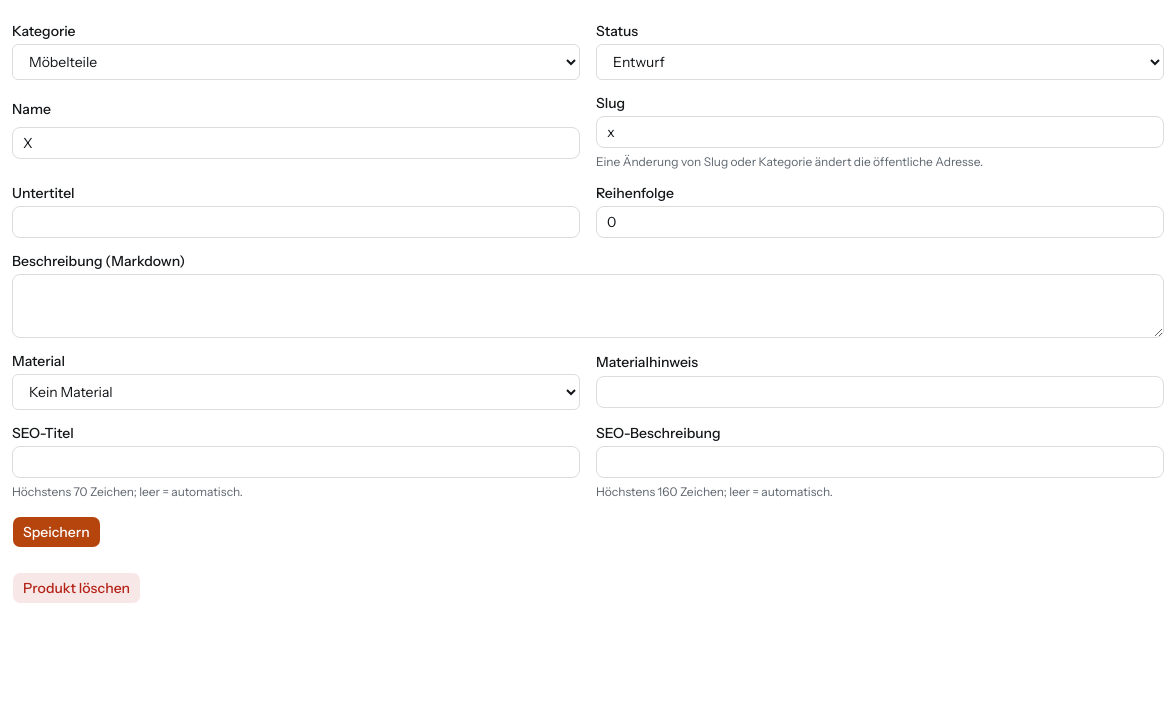
Test: ProductForm (SC-6, SC-12) › shows the status returned by the action (selects follow state.values)
Select "Veröffentlicht" in the dropdown labelled "Status" at (880, 62), box 596,44 -> 1164,80
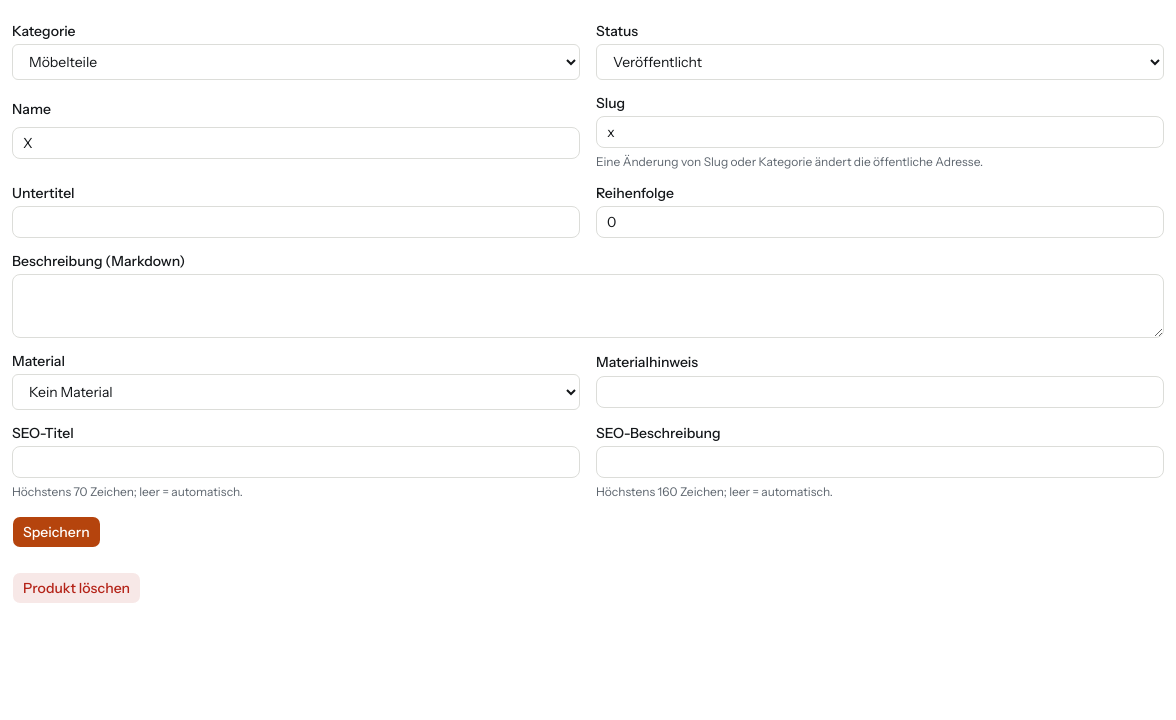
Click the button "Speichern" at (56, 532), box 12,516 -> 101,548
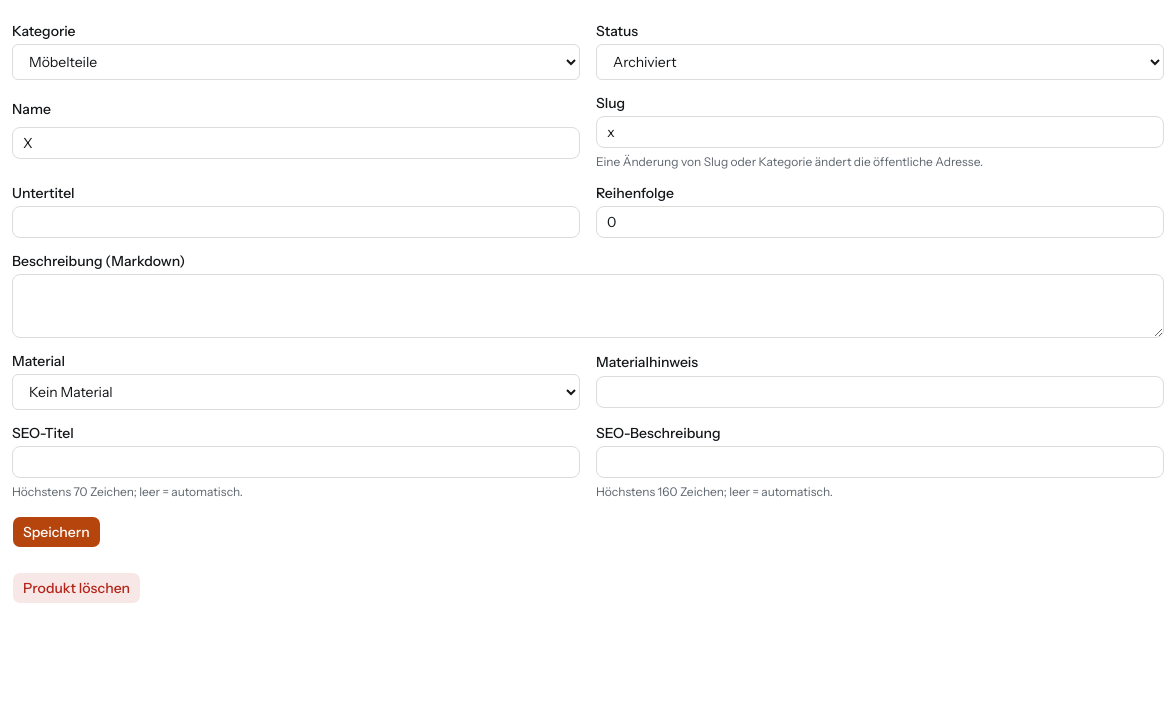
Expected: the dropdown labelled "Kategorie" shows "Möbelteile", 12,44 -> 580,80
Expected: the dropdown labelled "Status" shows "Archiviert", 596,44 -> 1164,80
